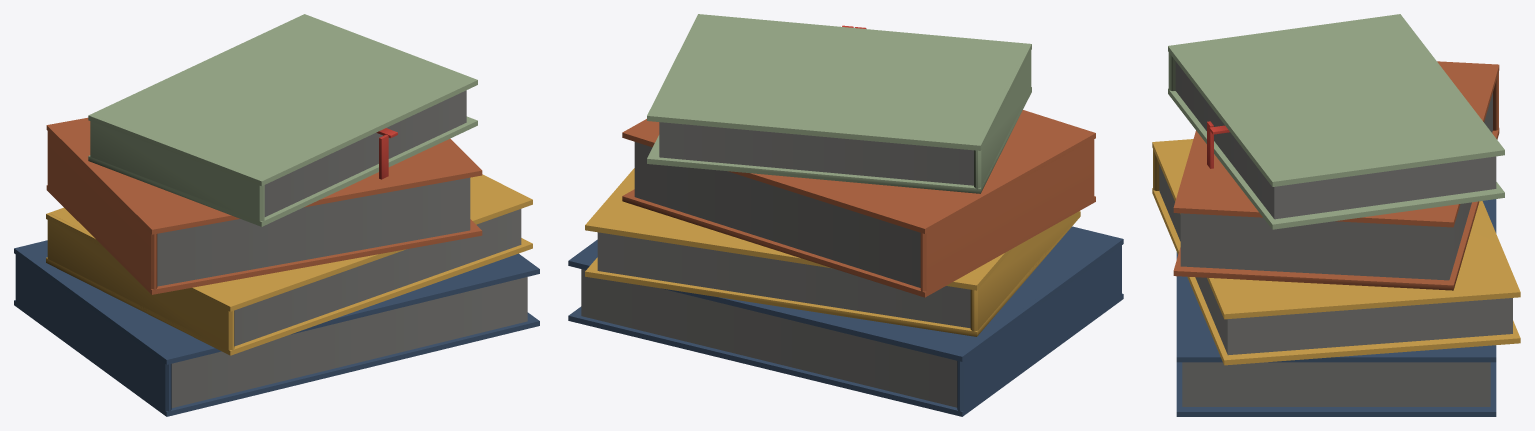
Rendered from bookStack.glb.
3 renders of one model, left to right at view 1: azimuth 30°, elevation 25°; view 2: azimuth 150°, elevation 25°; view 3: azimuth 270°, elevation 25°, orthographic. The views are drawn at different scales.
Parts seen in each view (by area): view 1: bookStack; view 2: bookStack; view 3: bookStack.
Boxes of the visible parts, bbox=[...] form: bookStack: bbox=[14, 14, 539, 416]; bookStack: bbox=[568, 14, 1123, 416]; bookStack: bbox=[1152, 14, 1520, 416].
Size of the model in its own units: 0.2502 by 0.133 by 0.1958.
